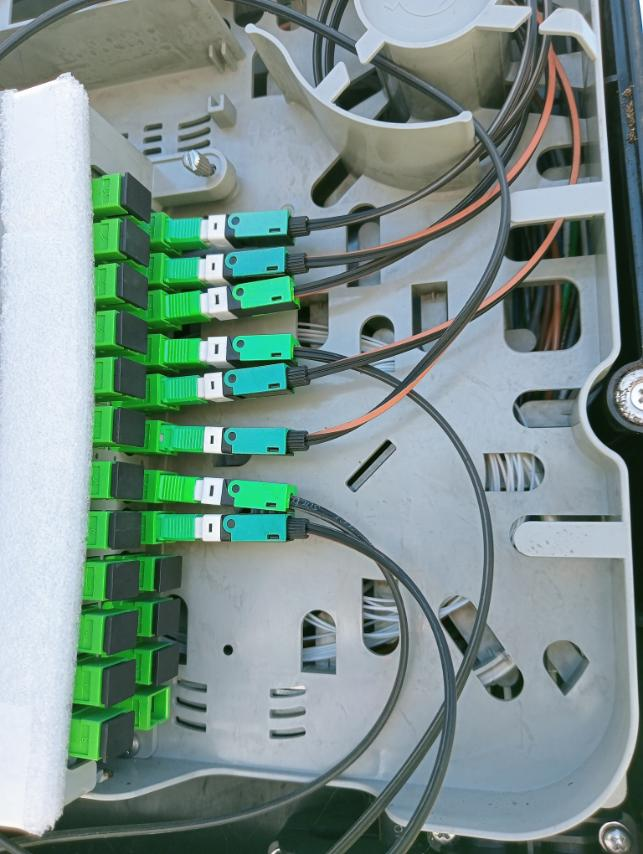no dust cap: (149, 689, 170, 731)
occupied: (165, 274, 304, 327), (161, 362, 315, 409), (163, 243, 308, 290), (160, 424, 316, 462), (167, 208, 308, 248), (167, 331, 303, 371), (158, 475, 296, 514), (158, 511, 308, 544)
vacant: (101, 712, 135, 761), (123, 172, 154, 223), (121, 218, 152, 268), (104, 660, 135, 708), (105, 612, 138, 655), (117, 312, 147, 356), (121, 262, 148, 309), (107, 561, 139, 600), (114, 461, 144, 500), (119, 356, 146, 399), (107, 513, 140, 548), (117, 408, 144, 449), (155, 645, 180, 686), (155, 557, 182, 592), (155, 600, 181, 636)
